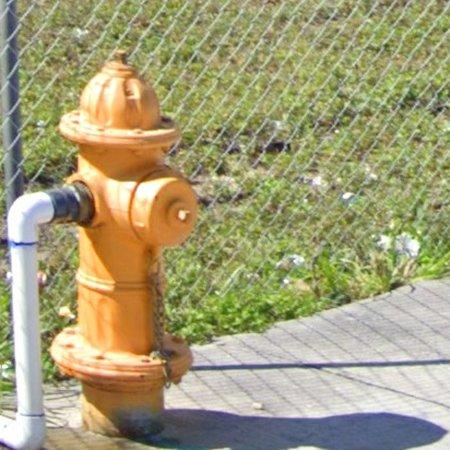a fire hydrant: (0, 52, 196, 450)
